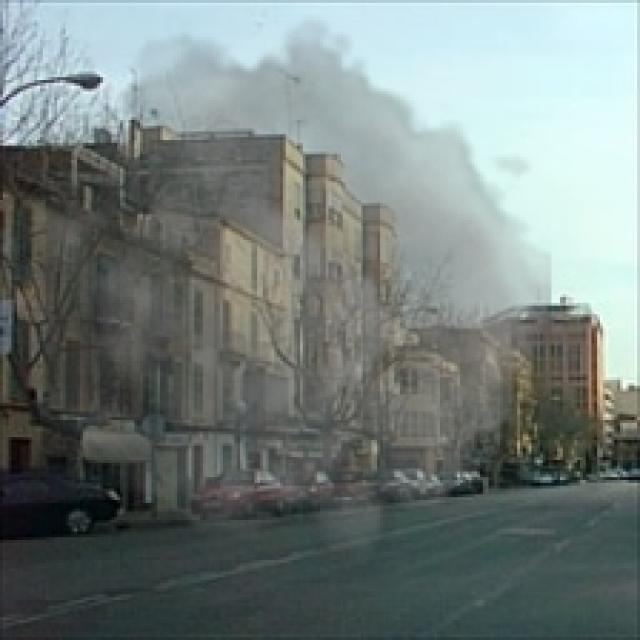Smoke: (34, 14, 552, 577)
